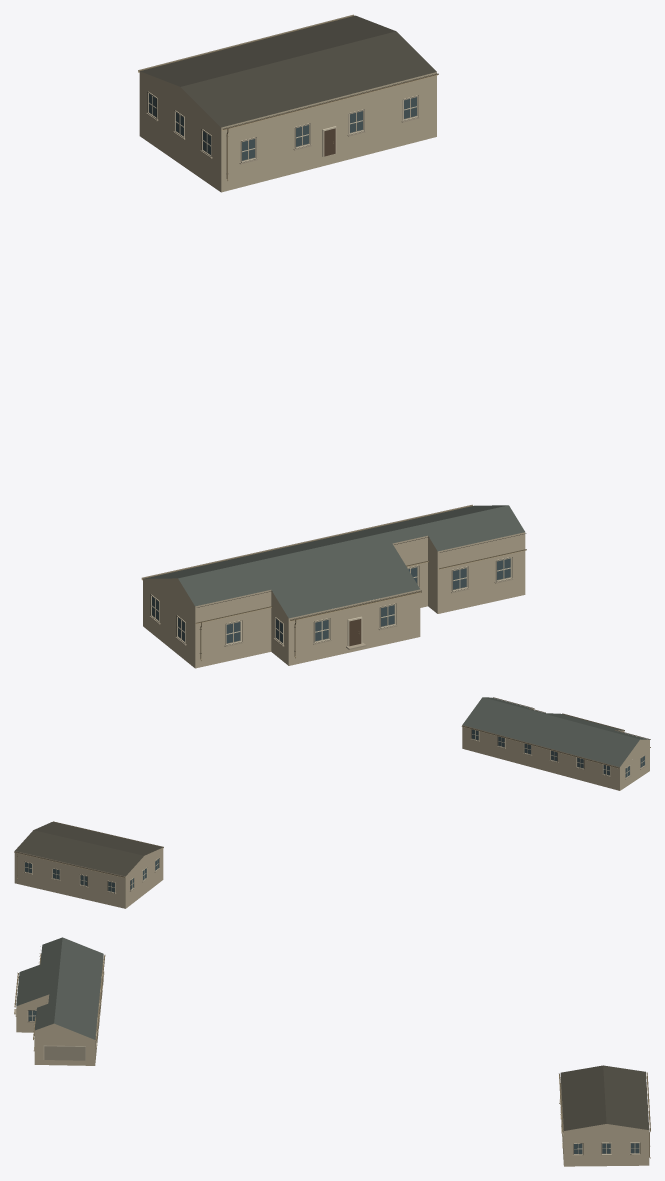
The picture shows the model from 3 angles, top to bottom: view 1: azimuth 30°, elevation 25°; view 2: azimuth 150°, elevation 25°; view 3: azimuth 270°, elevation 25°; orthographic projection. The views are drawn at different scales.
Visible parts, largest first — view 1: 5_1_632642721_0; view 2: 5_1_632642721_0; view 3: 5_1_632642721_0.
Boxes of the visible parts, box(x1,y1,x2,y2) form: 5_1_632642721_0: box(138, 14, 526, 668); 5_1_632642721_0: box(14, 697, 650, 908); 5_1_632642721_0: box(14, 937, 650, 1166).
Bounding box in the file's own units: 65.09 × 7.28 × 91.02.
